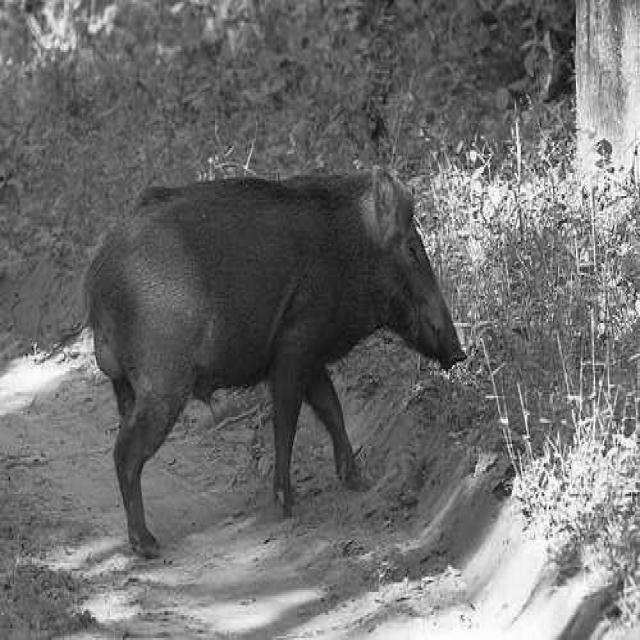boar: (86, 171, 465, 558)
